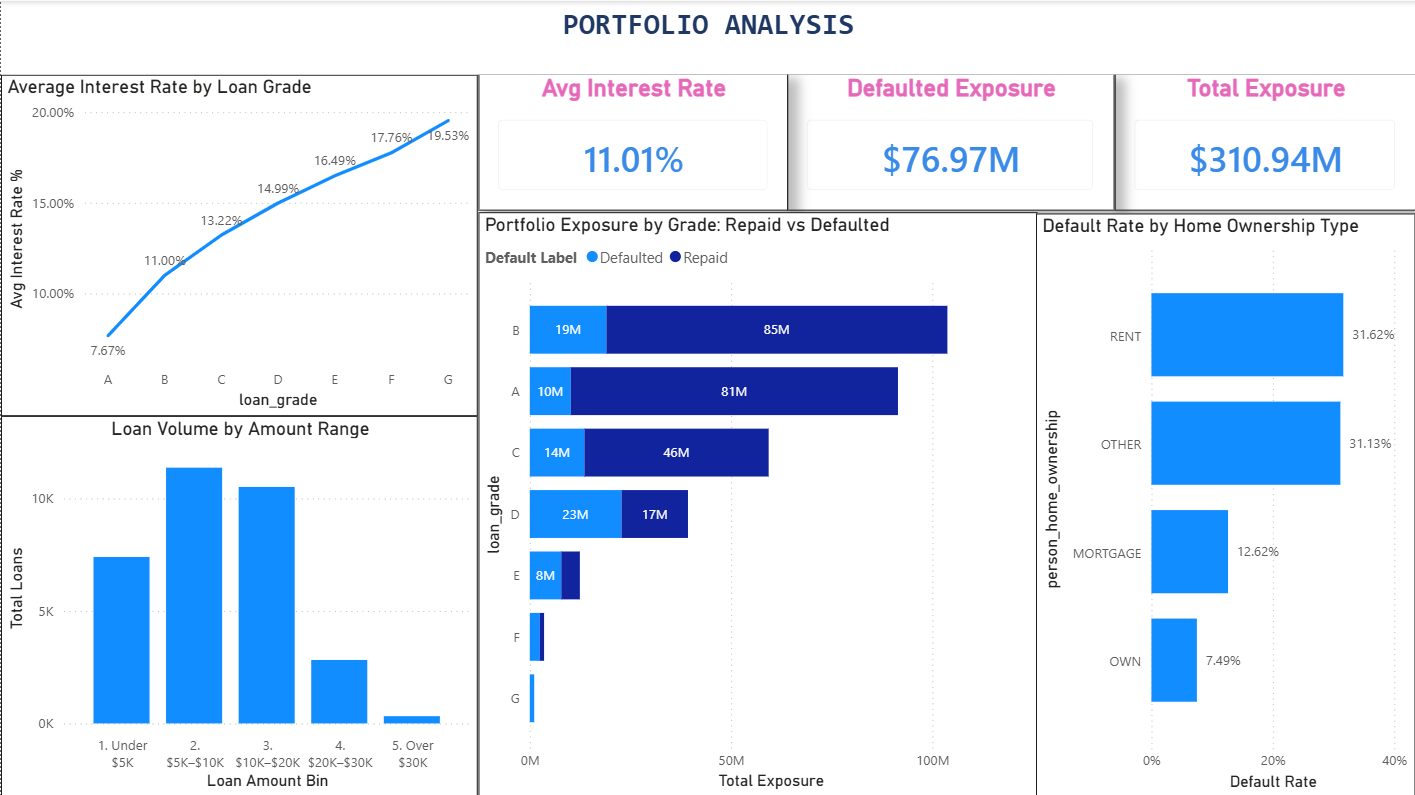

What the dashboard file says about the page in this screenshot:
{"tool":"powerbi","page":{"name":"Portfolio Analysis","canvas":[1280,720],"ordinal":2},"visuals":[{"type":"cardVisual","title":"Total Exposure","fields":{"Data":["credit_risk_segmented.Total Exposure"]},"box":[1007.1,65.7,272.9,124.3],"z":0},{"type":"cardVisual","title":"Defaulted Exposure","fields":{"Data":["credit_risk_segmented.Defaulted Exposure ($M)"]},"box":[711.4,65.7,295.7,124.3],"z":1000},{"type":"cardVisual","title":"Avg Interest Rate","fields":{"Data":["credit_risk_segmented.Avg Interest Rate"]},"box":[431.4,65.7,280,124.3],"z":2000},{"type":"barChart","title":"Portfolio Exposure by Grade: Repaid vs Defaulted","fields":{"Category":["credit_risk_segmented.loan_grade"],"Y":["credit_risk_segmented.Total Exposure"],"Series":["credit_risk_segmented.Default Label"]},"box":[431.4,191.4,505.7,528.6],"z":3000},{"type":"columnChart","title":"Loan Volume by Amount Range","fields":{"Category":["credit_risk_segmented.Loan Amount Bin"],"Y":["credit_risk_segmented.Total Loans"]},"box":[0,375.7,431.4,344.3],"z":4000},{"type":"lineChart","title":"Average Interest Rate by Loan Grade","fields":{"Category":["credit_risk_segmented.loan_grade"],"Y":["credit_risk_segmented.Avg Interest Rate %"]},"box":[0,67.1,431.4,308.6],"z":5000},{"type":"clusteredBarChart","title":"Default Rate by Home Ownership Type","fields":{"Category":["credit_risk_segmented.person_home_ownership"],"Y":["credit_risk_segmented.Default Rate"]},"box":[936.7,191.7,343.3,528.3],"z":6000},{"type":"textbox","box":[0,0,1280,66.7],"z":7000}]}

Visuals, with their boxes in screenshot pixels (x1, y1, x2, y2), scaled from the page's 1280x720 canvas onto the 1415x795 screenshot:
"Total Exposure" cardVisual: bbox=(1113, 73, 1414, 210)
"Defaulted Exposure" cardVisual: bbox=(786, 73, 1113, 210)
"Avg Interest Rate" cardVisual: bbox=(477, 73, 786, 210)
"Portfolio Exposure by Grade: Repaid vs Defaulted" barChart: bbox=(477, 211, 1036, 794)
"Loan Volume by Amount Range" columnChart: bbox=(0, 415, 477, 794)
"Average Interest Rate by Loan Grade" lineChart: bbox=(0, 74, 477, 415)
"Default Rate by Home Ownership Type" clusteredBarChart: bbox=(1035, 212, 1414, 794)
textbox: bbox=(0, 0, 1414, 74)
